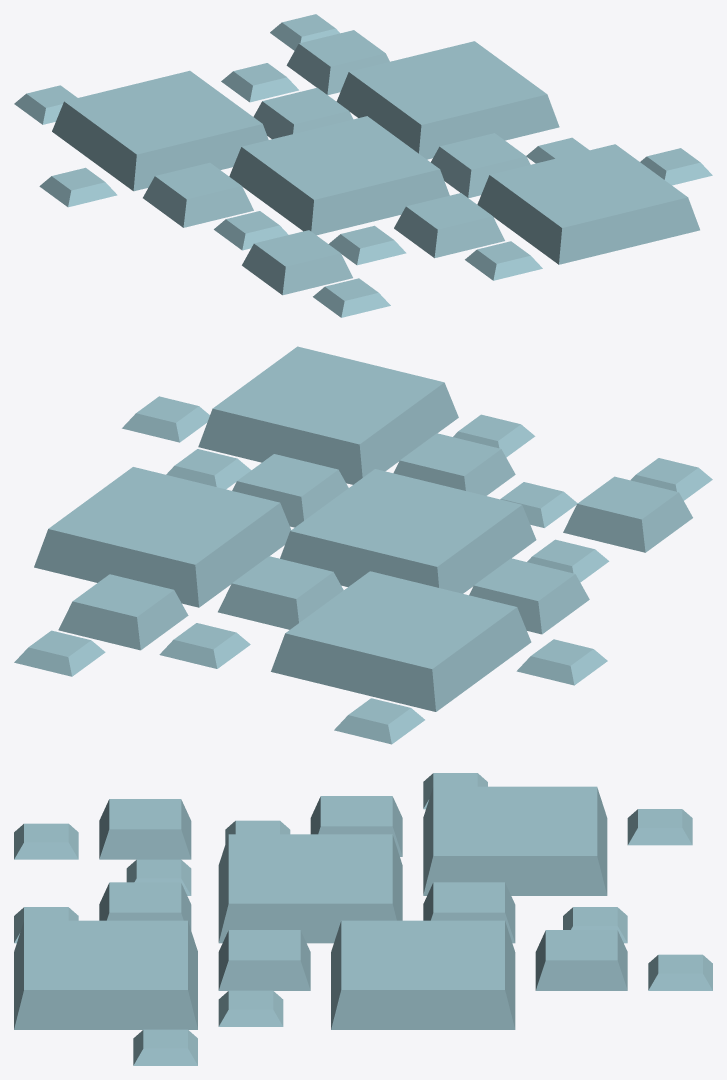
The model's file is road.fbx.
3 views of the same model, one above another, from view 1: azimuth 30°, elevation 25°; view 2: azimuth 150°, elevation 25°; view 3: azimuth 270°, elevation 25° (orthographic). The views are drawn at different scales.
Visible parts, largest first — view 1: road; view 2: road; view 3: road.
Boxes of the visible parts, box(x1,y1,x2,y2) form: road: box(14, 14, 712, 317); road: box(14, 346, 712, 744); road: box(14, 773, 712, 1065).
Bounding box in the file's own units: 7.41 × 0.4332 × 7.71.
